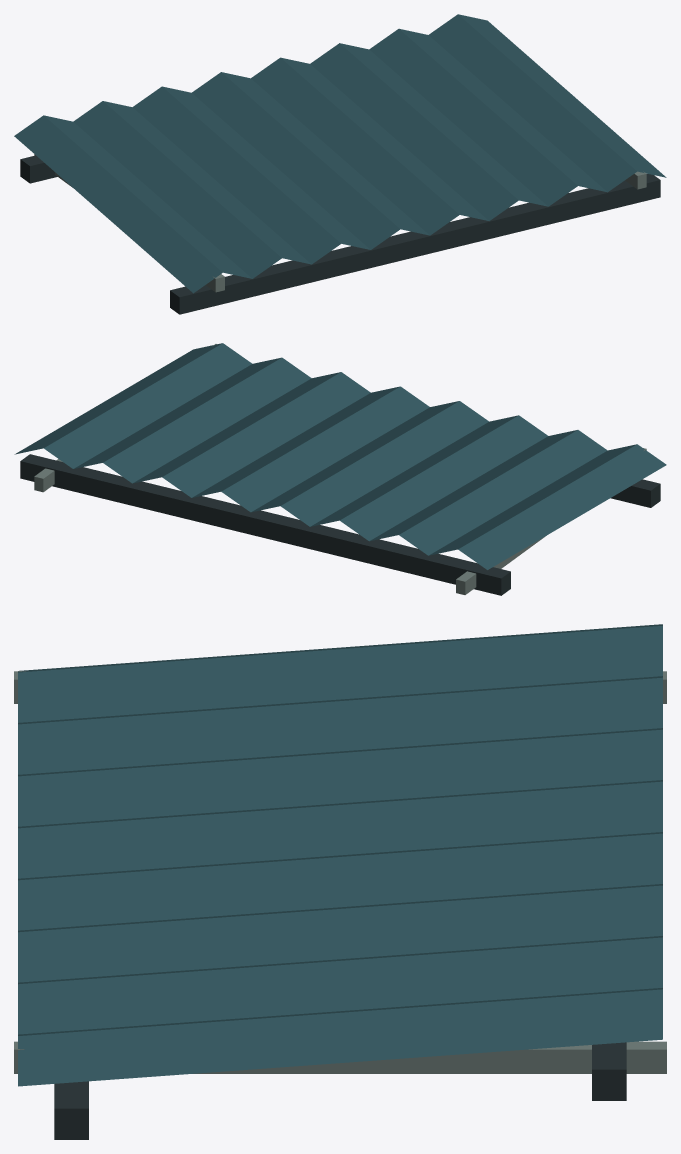
3 renders of one model, top to bottom at view 1: azimuth 30°, elevation 25°; view 2: azimuth 150°, elevation 25°; view 3: azimuth 270°, elevation 25°, orthographic. The views are drawn at different scales.
Visible parts, largest first — view 1: a136; view 2: a136; view 3: a136.
Boxes of the visible parts, left/top/right/bottom form: a136: left=14, top=14, right=666, bottom=314; a136: left=14, top=343, right=666, bottom=595; a136: left=14, top=624, right=666, bottom=1139.
Size of the model in its own units: 1.3 by 0.1741 by 0.85.
